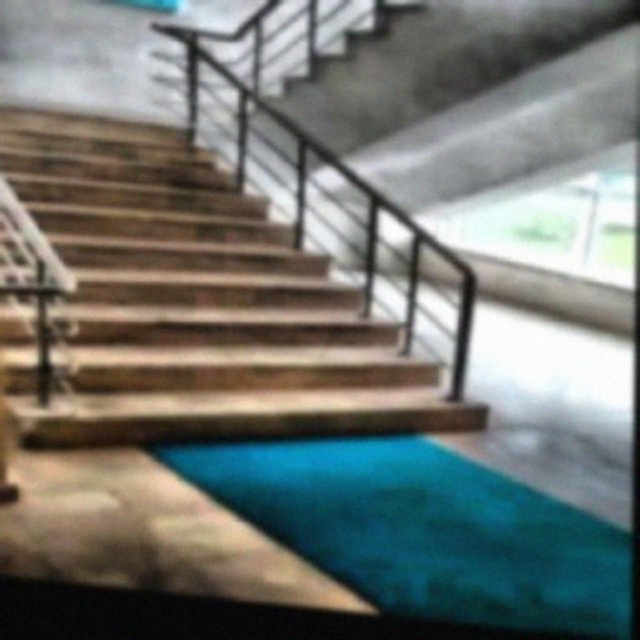stair: (2, 98, 520, 494)
